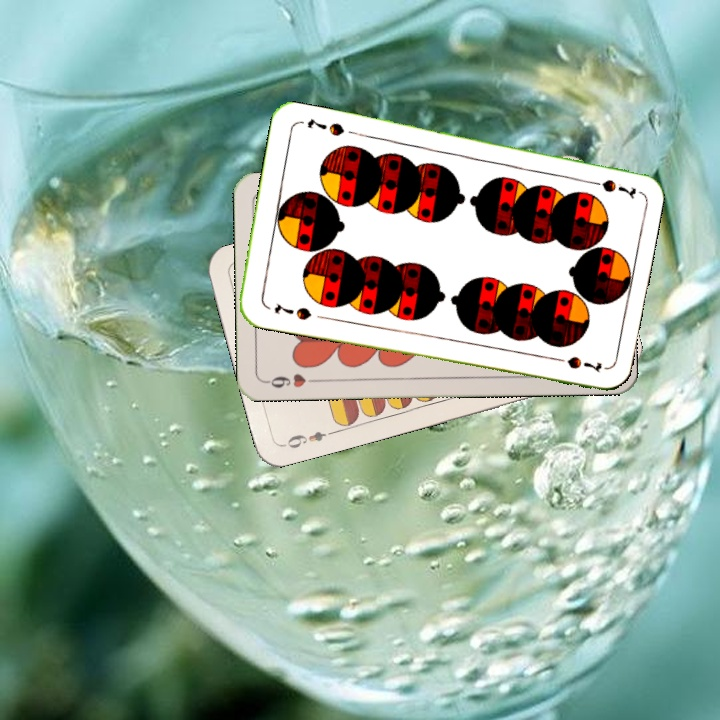E9: (280, 426, 338, 451)
H9: (262, 370, 321, 391)
S7: (580, 175, 639, 199), (270, 299, 314, 323)
